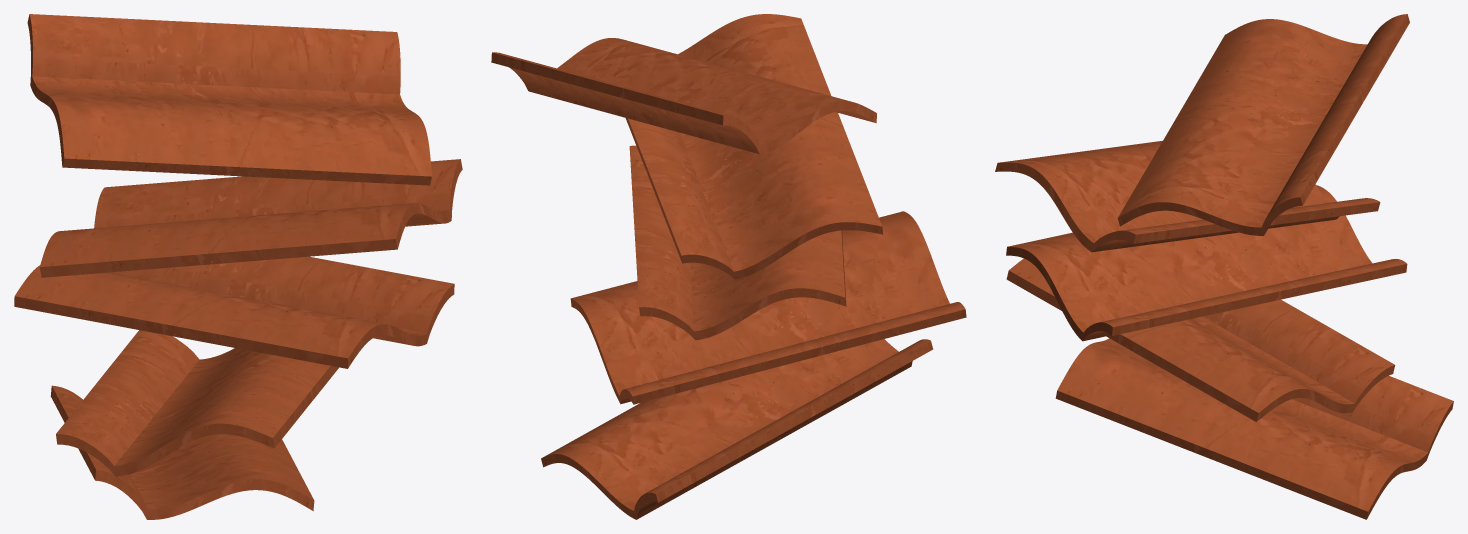
Rendered from COB-CER-002_anim.glb.
The picture shows the model from 3 angles, left to right: view 1: azimuth 30°, elevation 25°; view 2: azimuth 150°, elevation 25°; view 3: azimuth 270°, elevation 25°; orthographic projection. The views are drawn at different scales.
Parts seen in each view (by area): view 1: COB-CER-002_anim4, COB-CER-002_anim2, COB-CER-002_anim3, COB-CER-002_anim1, COB-CER-002_anim0; view 2: COB-CER-002_anim3, COB-CER-002_anim1, COB-CER-002_anim0, COB-CER-002_anim4, COB-CER-002_anim2; view 3: COB-CER-002_anim4, COB-CER-002_anim0, COB-CER-002_anim2, COB-CER-002_anim1, COB-CER-002_anim3.
Part boxes in pixels (left/top/right/bottom): COB-CER-002_anim4: left=27, top=14, right=431, bottom=185; COB-CER-002_anim2: left=14, top=256, right=454, bottom=368; COB-CER-002_anim3: left=39, top=159, right=462, bottom=277; COB-CER-002_anim1: left=56, top=330, right=338, bottom=476; COB-CER-002_anim0: left=50, top=385, right=314, bottom=519; COB-CER-002_anim3: left=625, top=14, right=883, bottom=279; COB-CER-002_anim1: left=570, top=211, right=966, bottom=404; COB-CER-002_anim0: left=541, top=339, right=933, bottom=519; COB-CER-002_anim4: left=491, top=38, right=876, bottom=154; COB-CER-002_anim2: left=629, top=145, right=846, bottom=340; COB-CER-002_anim4: left=1117, top=14, right=1409, bottom=235; COB-CER-002_anim0: left=1055, top=338, right=1453, bottom=519; COB-CER-002_anim2: left=1006, top=185, right=1407, bottom=341; COB-CER-002_anim1: left=1006, top=258, right=1395, bottom=421; COB-CER-002_anim3: left=995, top=140, right=1380, bottom=252.
Bounding box in the file's own units: 0.5319 × 0.5362 × 0.5442.
1 material, 1 textured.
